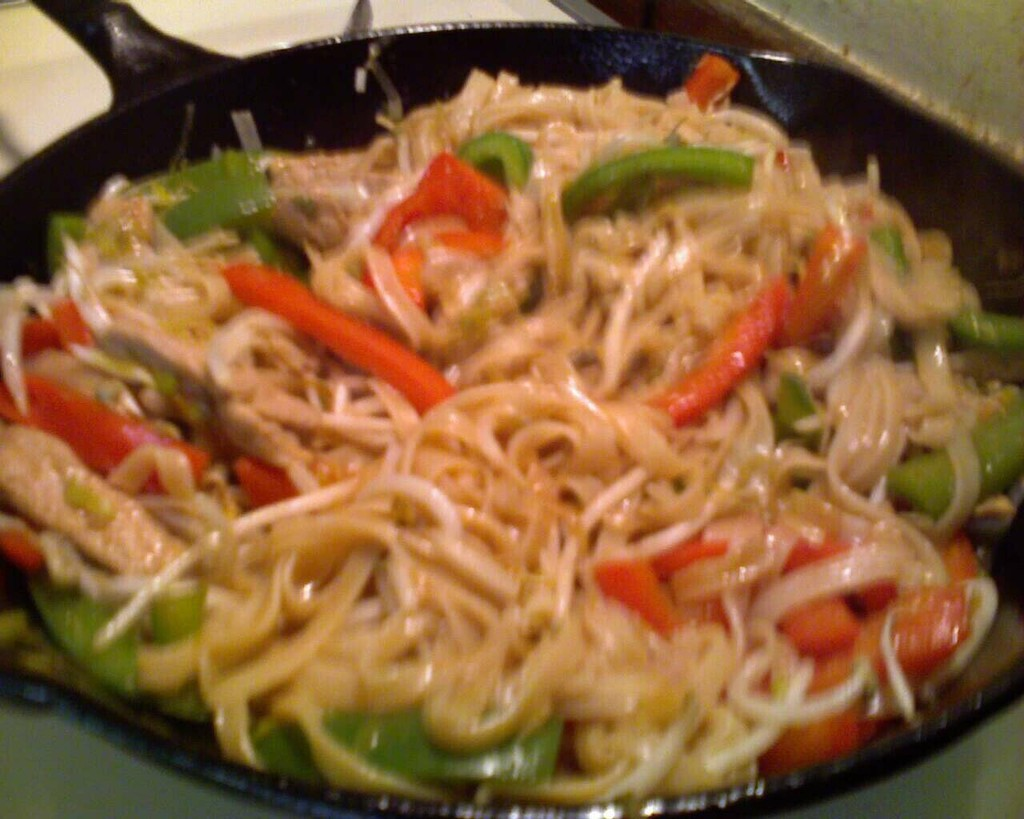pasta: (0, 70, 986, 807)
